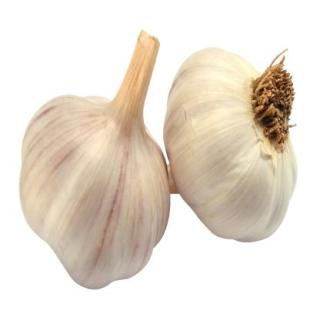Bawang Putih: (20, 97, 171, 291), (165, 50, 299, 244)
